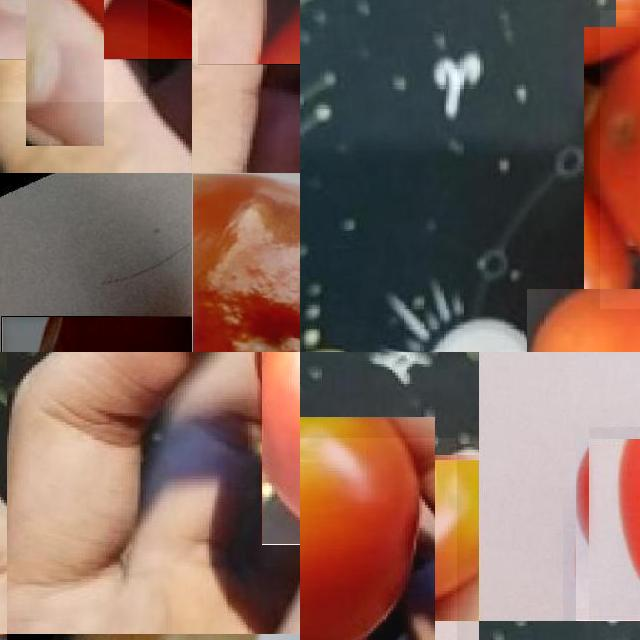Fresh Tomato: (300, 438, 457, 640), (0, 0, 148, 102), (576, 439, 640, 621)
Rotten Tomato: (262, 352, 300, 544), (198, 0, 300, 64)
